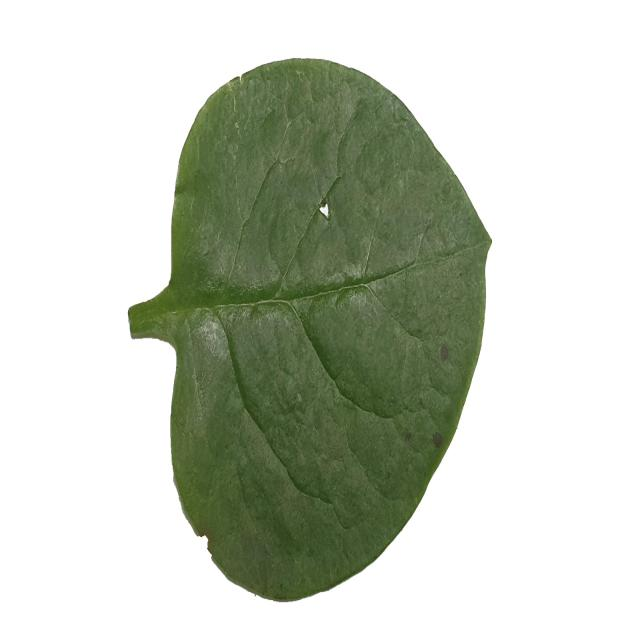Medicinal-Basale: (129, 55, 493, 604)
